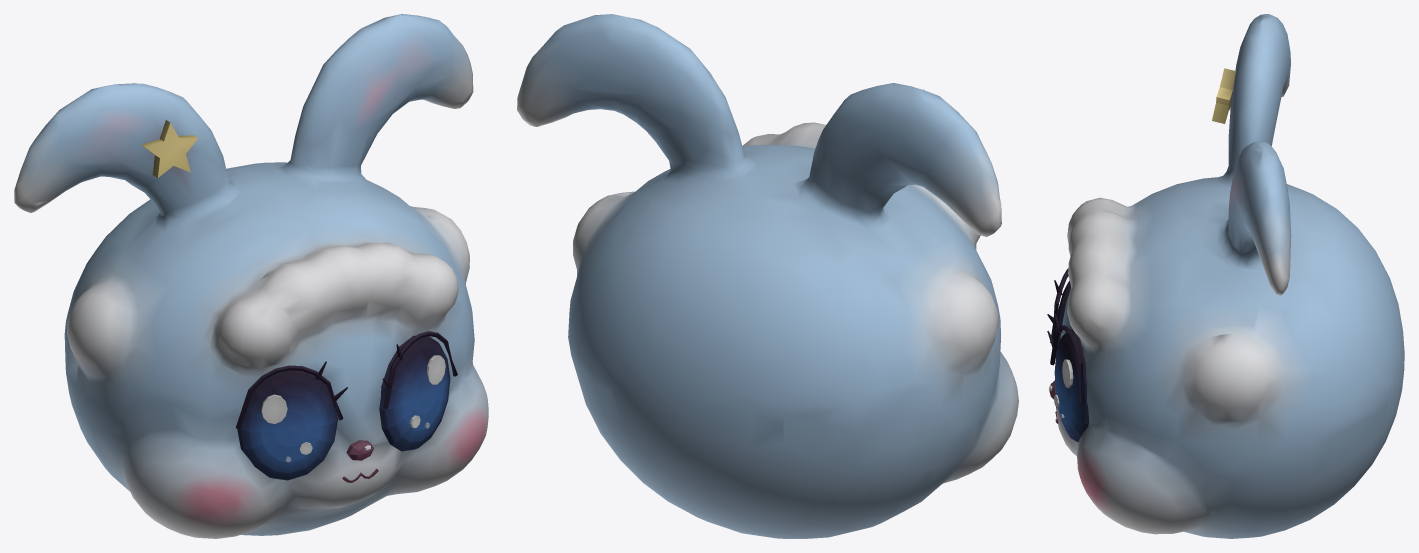
The model's file is air-head.glb.
3 views of the same model, side by side, from view 1: azimuth 30°, elevation 25°; view 2: azimuth 150°, elevation 25°; view 3: azimuth 270°, elevation 25° (orthographic). The views are drawn at different scales.
Parts seen in each view (by area): view 1: air-head; view 2: air-head; view 3: air-head.
Part boxes in pixels (<box>): air-head: <box>14,14,488,538</box>; air-head: <box>517,14,1018,538</box>; air-head: <box>1047,14,1404,538</box>.
Size of the model in its own units: 0.5126 by 0.4878 by 0.3643.
